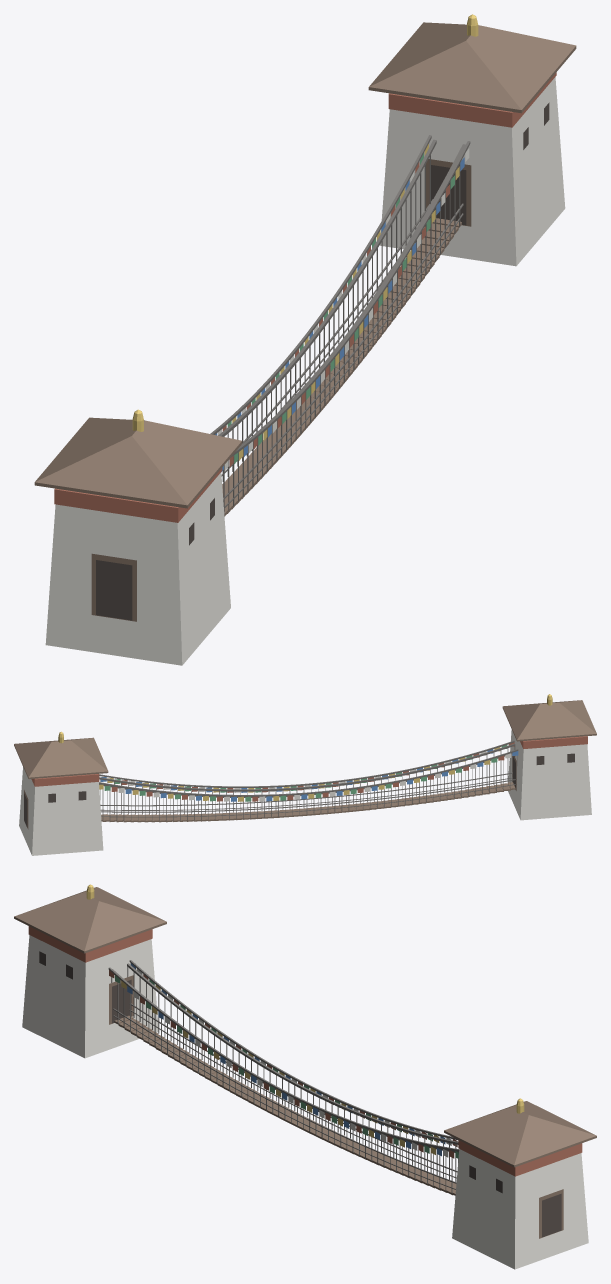
Rendered from isuna.glb.
3 renders of one model, top to bottom at view 1: azimuth 30°, elevation 25°; view 2: azimuth 150°, elevation 25°; view 3: azimuth 270°, elevation 25°, orthographic. The views are drawn at different scales.
Parts seen in each view (by area): view 1: isuna; view 2: isuna; view 3: isuna.
Boxes of the visible parts, box(x1,y1,x2,y2) form: isuna: box(34, 14, 576, 665); isuna: box(14, 694, 596, 855); isuna: box(14, 884, 596, 1269).
Size of the model in its own units: 50.98 by 12.39 by 45.07.
